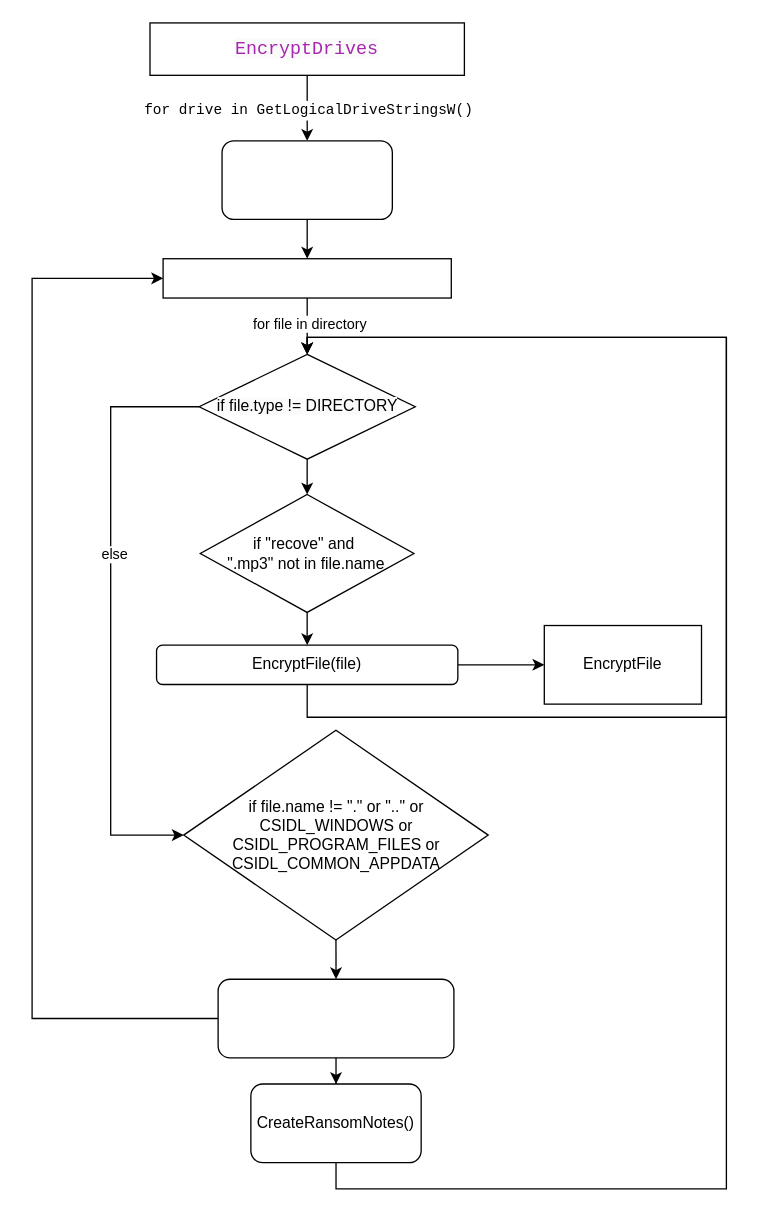
Image size: 760x1222. Some labels were removed from this diagram. Each missing label, with the box of its shape:
EncryptDirectory(directory): (162, 257, 451, 298)
EncryptDirectory(drive): (221, 140, 392, 219)
EncryptDirectory(file.name): (217, 978, 454, 1058)
